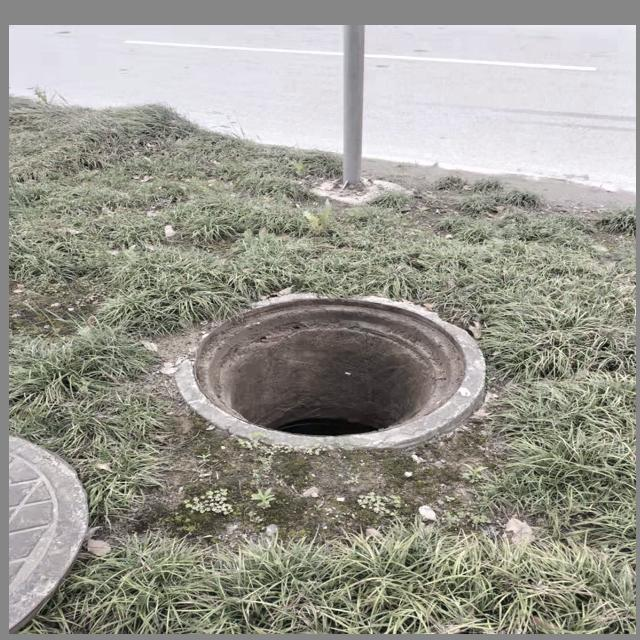lose: (148, 275, 498, 438)
